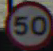Speed limit: (5, 6, 46, 44)
